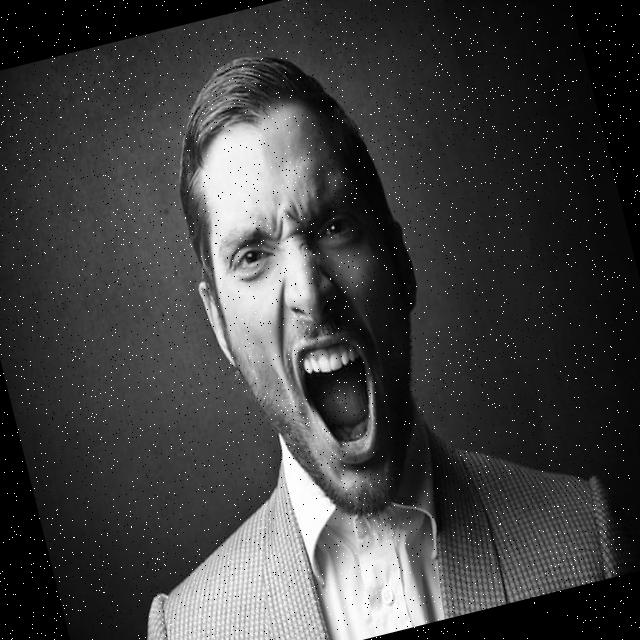Angry: (180, 95, 458, 536)
